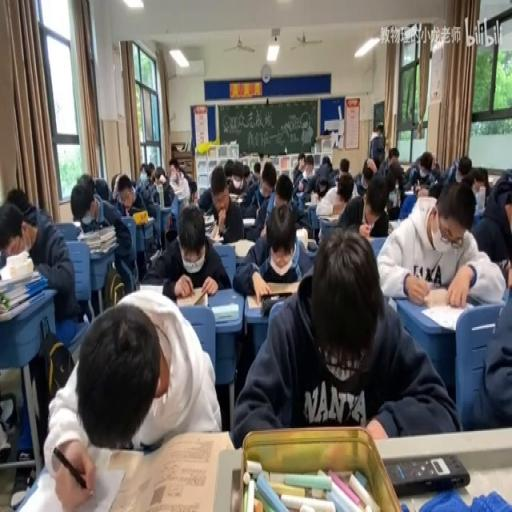calculator: (245, 282, 299, 310), (418, 301, 470, 330), (468, 287, 506, 306), (175, 286, 208, 307), (210, 300, 238, 322), (232, 236, 254, 256), (294, 226, 308, 248), (202, 214, 216, 234), (134, 213, 155, 226), (318, 212, 340, 222), (148, 246, 160, 260), (388, 220, 398, 234), (229, 192, 242, 202), (242, 216, 256, 225), (295, 186, 306, 196), (304, 199, 317, 206), (403, 189, 415, 196)
paper: (234, 228, 456, 445), (40, 290, 217, 508), (2, 196, 80, 347), (72, 174, 138, 294), (149, 204, 229, 302), (462, 269, 510, 429), (471, 170, 512, 268), (338, 169, 386, 233), (242, 162, 281, 239), (197, 161, 238, 222), (286, 166, 320, 236), (382, 158, 410, 219), (403, 148, 439, 189), (442, 155, 478, 189), (5, 188, 34, 224), (168, 158, 190, 202), (310, 158, 336, 192), (369, 122, 385, 164), (273, 172, 291, 205), (141, 175, 160, 202), (92, 175, 110, 202), (291, 152, 305, 185), (114, 184, 130, 208), (501, 194, 510, 230), (427, 180, 443, 198), (362, 162, 374, 184), (186, 179, 197, 202), (224, 158, 234, 179), (339, 156, 350, 174), (146, 161, 156, 179), (258, 150, 270, 164), (242, 165, 250, 185), (155, 170, 165, 186), (388, 148, 398, 163), (253, 159, 260, 178), (112, 172, 118, 192), (139, 162, 147, 176), (373, 156, 381, 170), (430, 156, 438, 170), (305, 162, 313, 174), (322, 156, 330, 165)
person: (384, 452, 470, 494), (306, 239, 318, 252)
